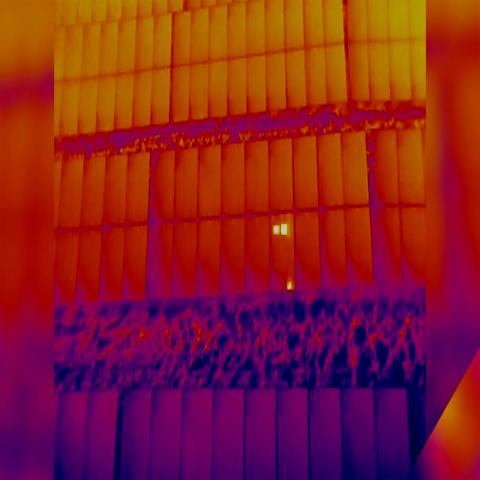fault: (272, 225, 280, 235), (281, 224, 287, 235), (287, 282, 292, 292)
